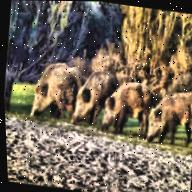boar: (59, 45, 122, 146), (94, 67, 161, 154), (19, 56, 84, 135), (140, 85, 192, 160)
